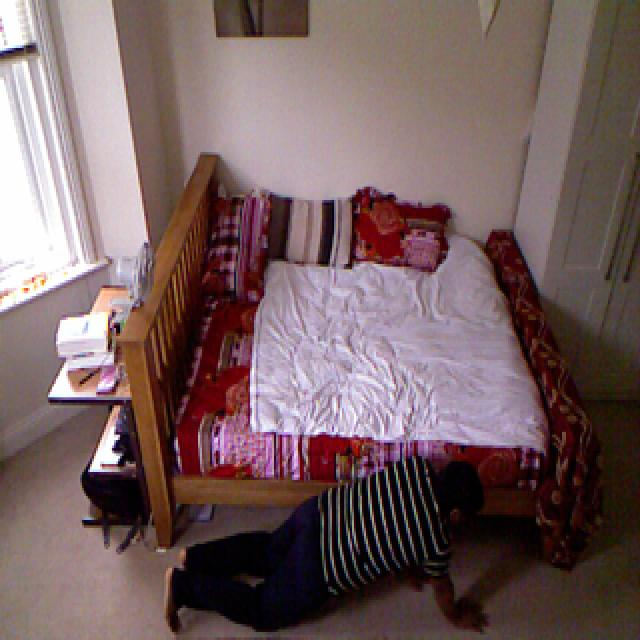crawling: (160, 447, 500, 640)
